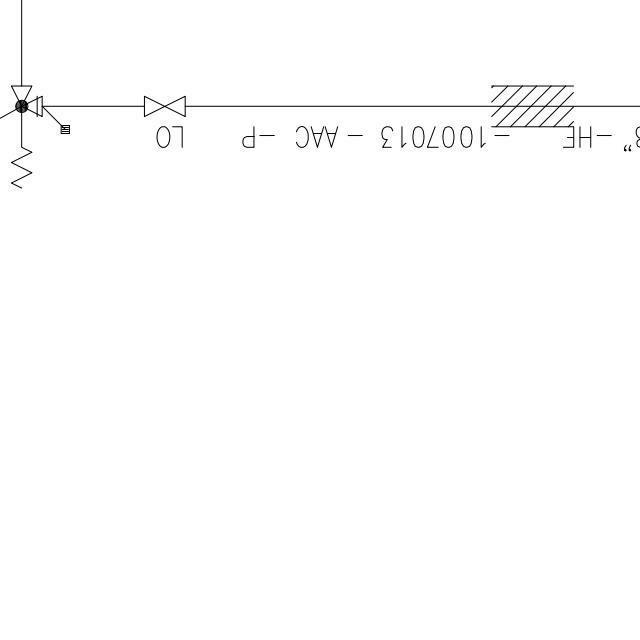GV: (5, 76, 48, 200), (140, 94, 188, 125)
